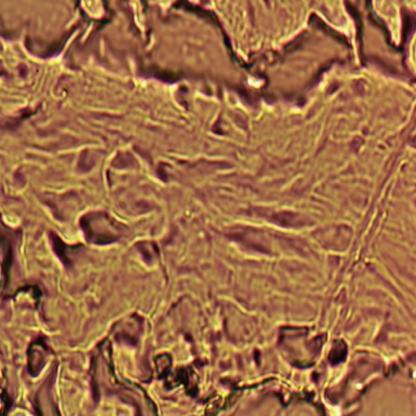Stage I: (0, 43, 416, 416)
